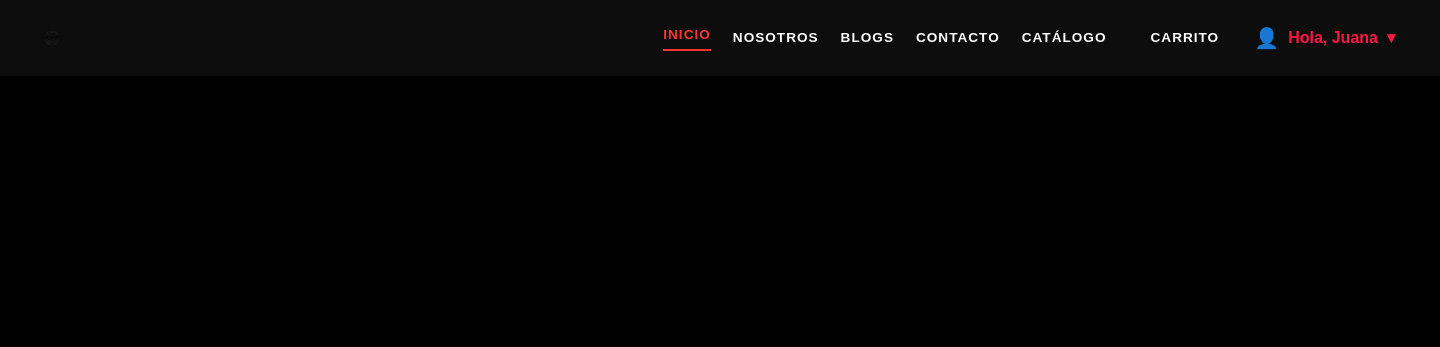
Test case: Facture Sneakers - Navbar › debe abrir el menú del perfil al hacer clic
Click the button "👤 Hola, Juana ▾" at (1325, 38), box x1=1241 y1=12 x2=1408 y2=64
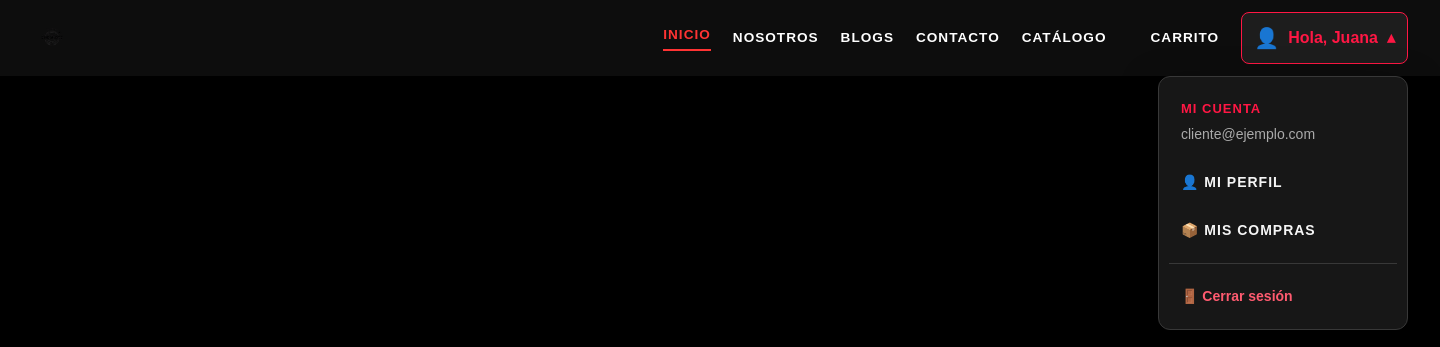
Check: the button "👤 Hola, Juana ▴" is expanded, box x1=1241 y1=12 x2=1408 y2=64
Check: the text "MI CUENTA" is shown, box x1=1181 y1=101 x2=1261 y2=116
